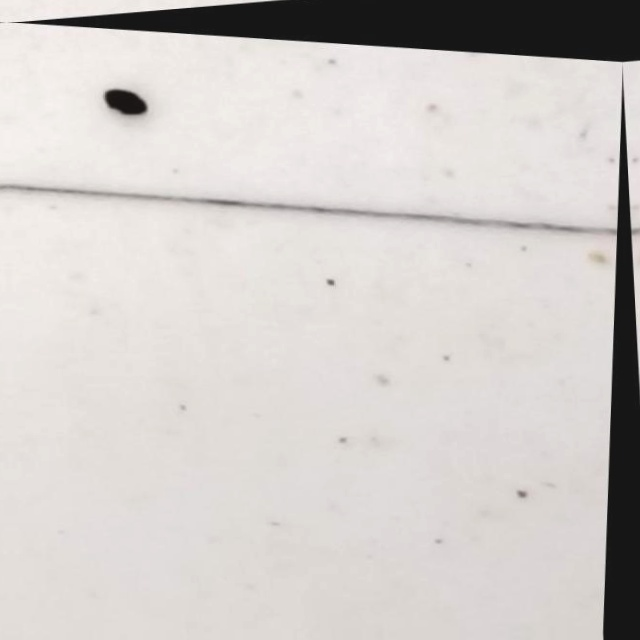varroa: (102, 85, 155, 118)
